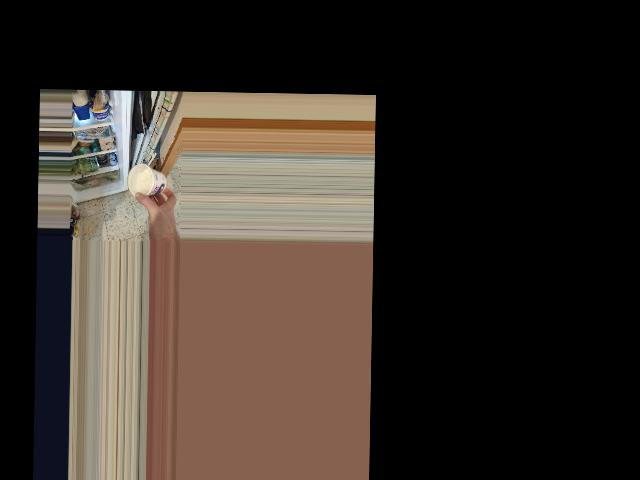cotage: (128, 165, 168, 200)
